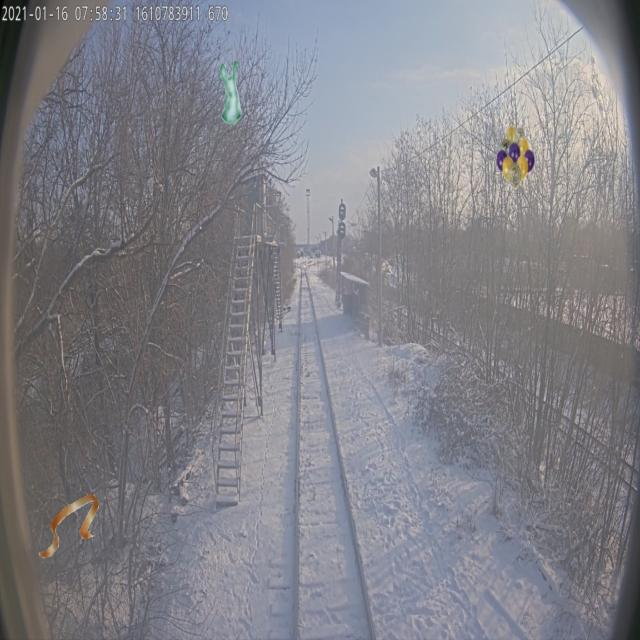balloon: (496, 126, 535, 190)
floating object: (39, 494, 100, 558)
plastic bag: (219, 60, 242, 124)
